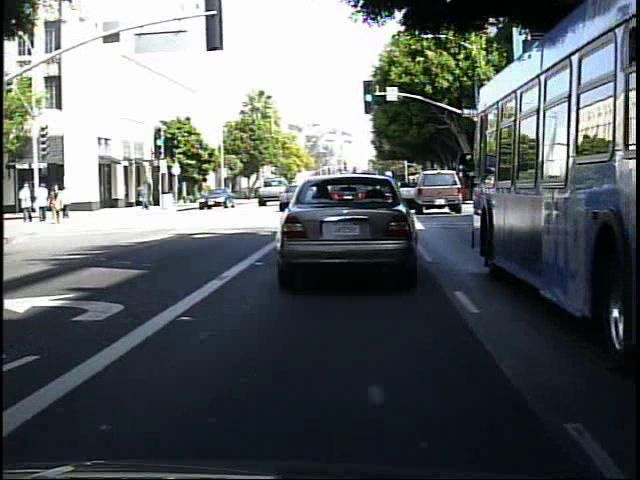person: (18, 179, 37, 225), (135, 178, 154, 216), (35, 181, 51, 224), (48, 184, 63, 225), (61, 181, 75, 221), (49, 184, 63, 221)
